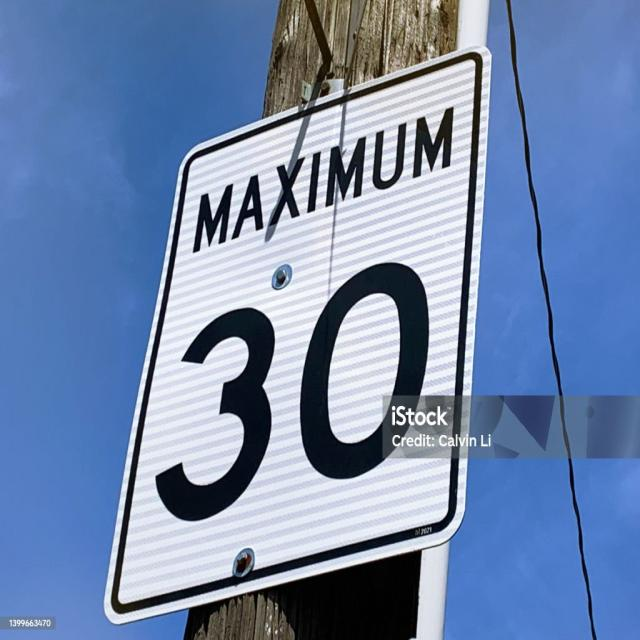speedLimit30: (102, 43, 493, 624)
